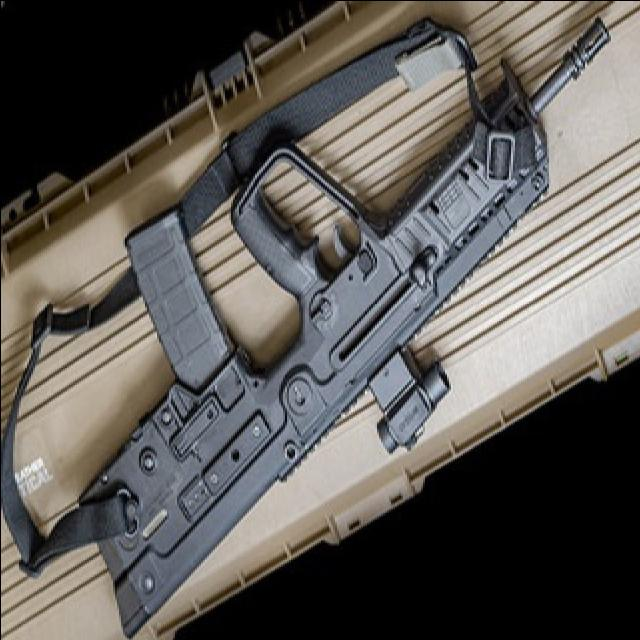rifle: (15, 4, 623, 640)
